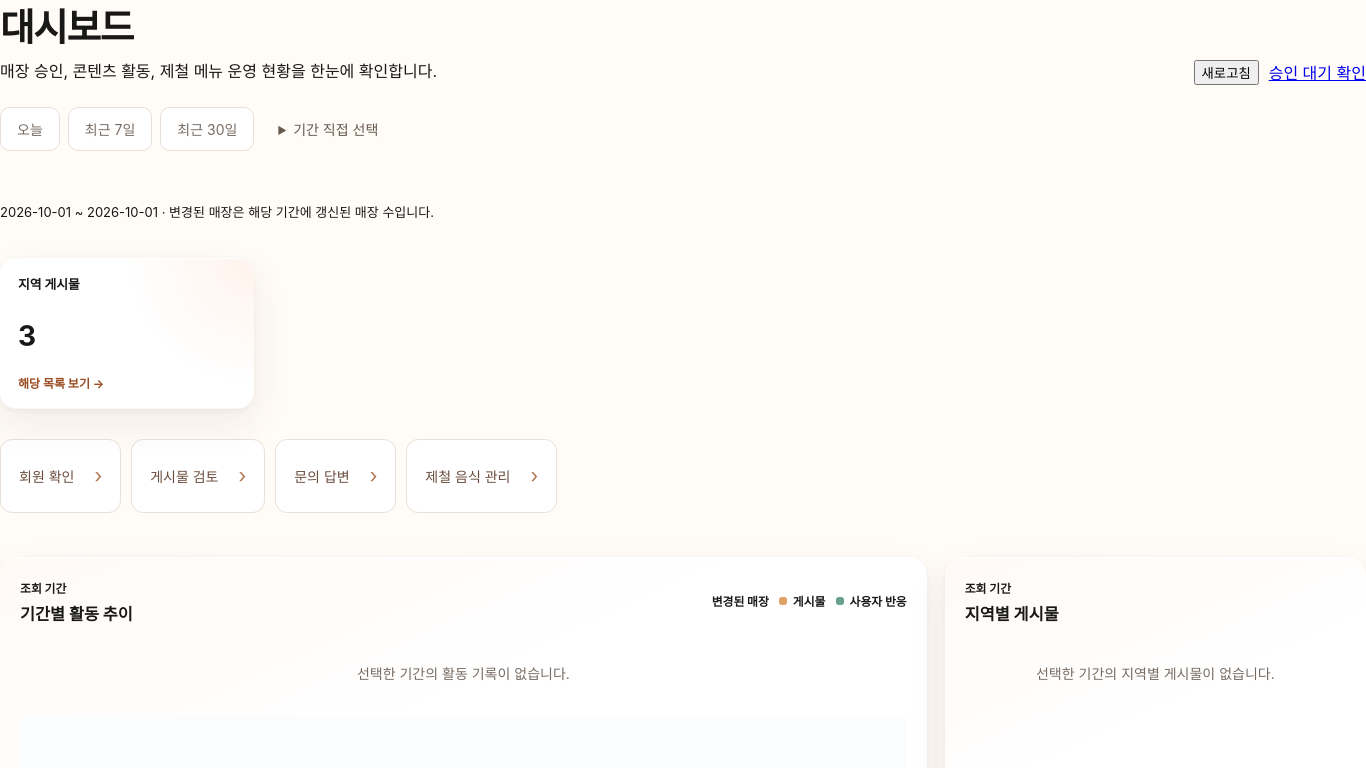
Test: a failed period refresh keeps the old numbers linked to the old data period
Expected: the link "지역 게시물 3 해당 목록 보기 →" is shown, 0,258 -> 254,408
Click the button "최근 30일".
click(207, 129)  # box 160,107 -> 254,151
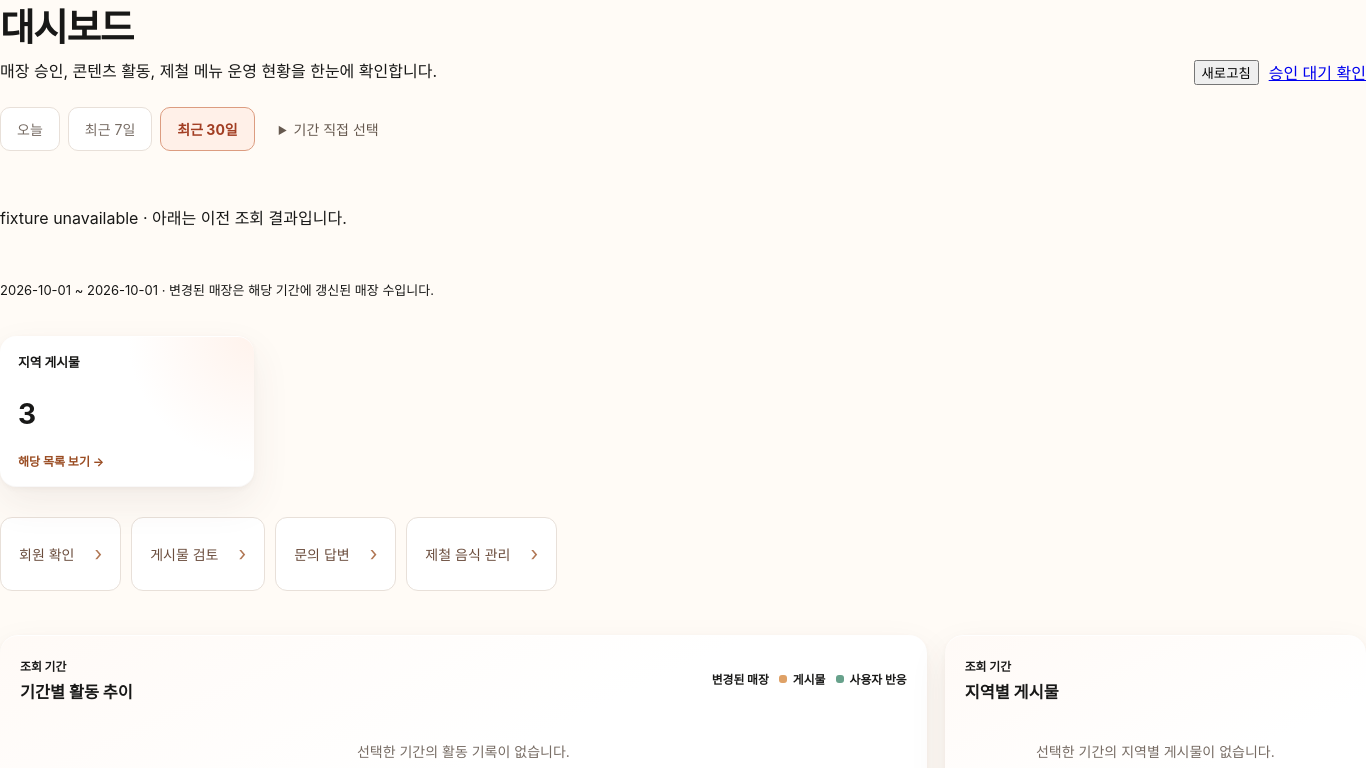
Now the message "fixture unavailable · 아래는 이전 조회 결과입니다." is shown, box 0,208 -> 347,228
